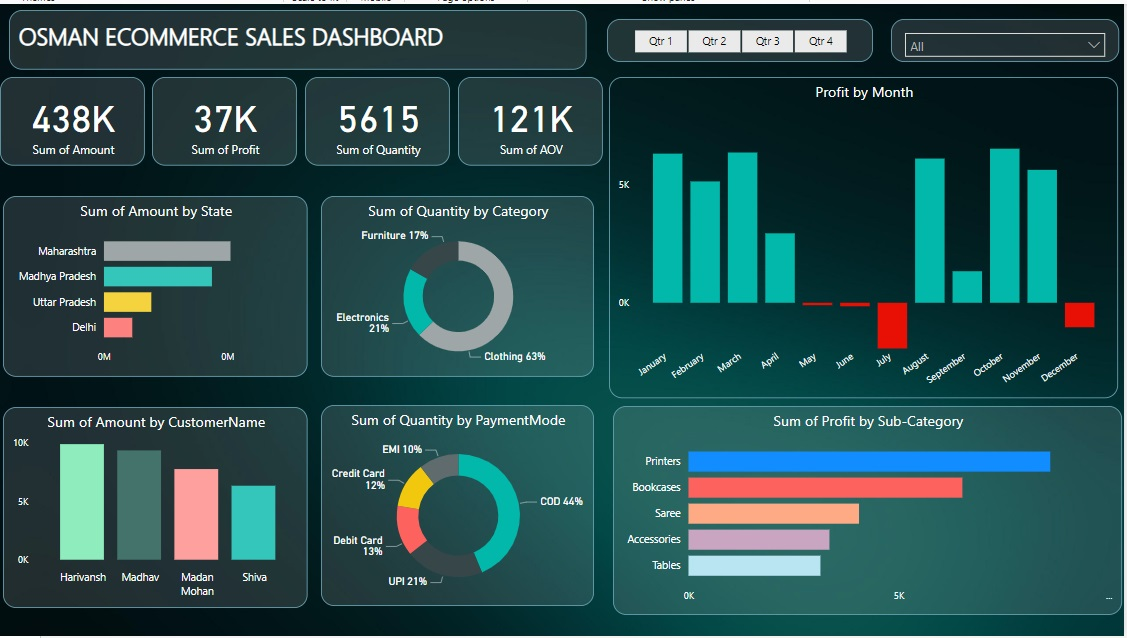

Layout of this report page (visuals, bound fields, positions):
{"tool":"powerbi","page":{"name":"Osman","canvas":[1280,720],"ordinal":0},"visuals":[{"type":"textbox","box":[10.3,6.4,658,68.1],"z":0},{"type":"columnChart","title":"Profit by Month","fields":{"Category":["Orders (2).Order Date.Variation.Date Hierarchy.Month"],"Y":["Details.Profit"]},"box":[694,83.5,579.6,366.3],"z":1000},{"type":"barChart","fields":{"Category":["Details.Sub-Category"],"Y":["Details.Profit"]},"box":[698.4,458,579.9,238.1],"z":2000},{"type":"donutChart","fields":{"Category":["Details.Category"],"Y":["Details.Quantity"]},"box":[366.3,218.5,311,205.6],"z":3000},{"type":"donutChart","fields":{"Y":["Details.Quantity"],"Category":["Details.PaymentMode"]},"box":[365.7,456.8,311,229],"z":4000},{"type":"card","fields":{"Values":["Details.Amount"]},"box":[0,83.2,165.2,101.4],"z":5000},{"type":"card","fields":{"Values":["Details.Profit"]},"box":[173.2,83.2,165.2,101.4],"z":6000},{"type":"card","fields":{"Values":["Details.Quantity"]},"box":[347.5,83.2,165.2,101.4],"z":7000},{"type":"card","fields":{"Values":["Details.AOV"]},"box":[521.8,83.2,165.2,101.4],"z":8000},{"type":"barChart","fields":{"Category":["Orders (2).State"],"Y":["Details.Amount"]},"box":[3.9,218.5,347,205.6],"z":9000},{"type":"columnChart","fields":{"Category":["Orders (2).CustomerName"],"Y":["Details.Amount"]},"box":[3.4,459.1,347.5,229],"z":10000},{"type":"slicer","fields":{"Values":["Orders (2).Order Date.Variation.Date Hierarchy.Quarter"]},"box":[691.5,17.1,303,49],"z":11000},{"type":"slicer","fields":{"Values":["Orders (2).State"]},"box":[1015.1,17.1,259.7,49],"z":12000}]}

Visuals, with their boxes on the page's 1280x720 design canvas (x1, y1, x2, y2). These are canvas units, not pixel positions in the 1127x638 screenshot, which may show the page scaled, cropped or inside an application window:
textbox: bbox=(10, 6, 668, 74)
"Profit by Month" columnChart: bbox=(694, 84, 1274, 450)
barChart - Details.Sub-Category x Details.Profit: bbox=(698, 458, 1278, 696)
donutChart - Details.Category x Details.Quantity: bbox=(366, 218, 677, 424)
donutChart - Details.Quantity x Details.PaymentMode: bbox=(366, 457, 677, 686)
card - Details.Amount: bbox=(0, 83, 165, 185)
card - Details.Profit: bbox=(173, 83, 338, 185)
card - Details.Quantity: bbox=(348, 83, 513, 185)
card - Details.AOV: bbox=(522, 83, 687, 185)
barChart - Orders (2).State x Details.Amount: bbox=(4, 218, 351, 424)
columnChart - Orders (2).CustomerName x Details.Amount: bbox=(3, 459, 351, 688)
slicer - Orders (2).Order Date.Variation.Date Hierarchy.Quarter: bbox=(692, 17, 994, 66)
slicer - Orders (2).State: bbox=(1015, 17, 1275, 66)
